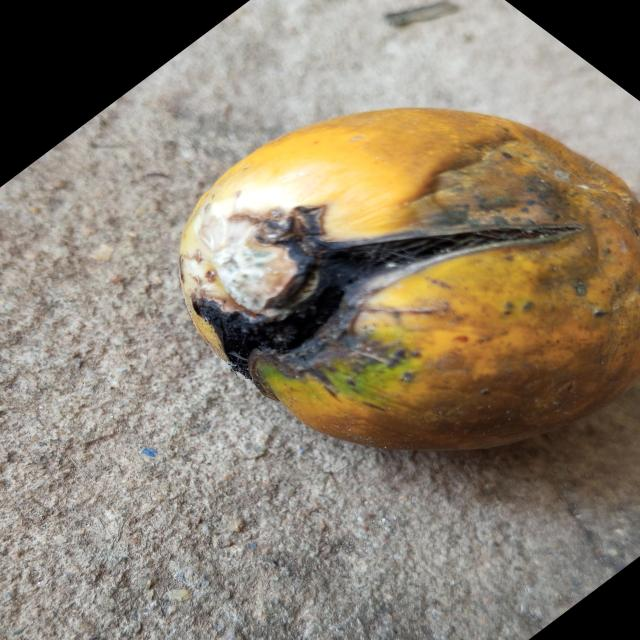damaged: (176, 108, 640, 454)
